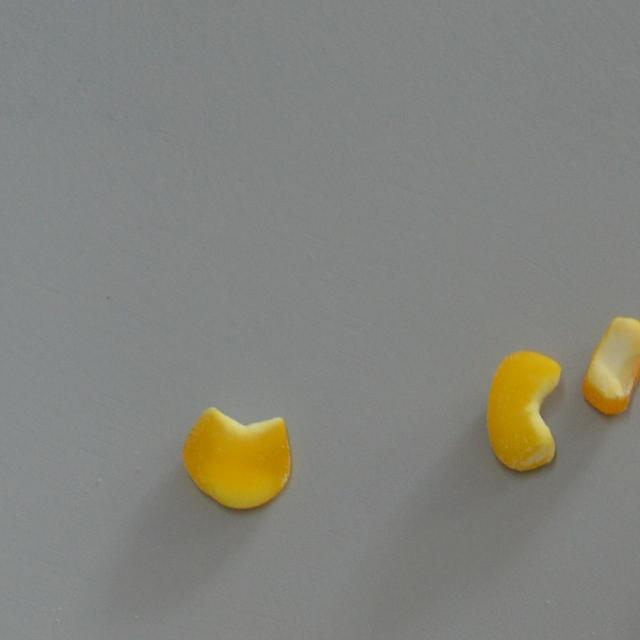no_canjicado: (180, 406, 292, 509), (580, 314, 640, 414)
pelicula: (486, 350, 561, 472)
